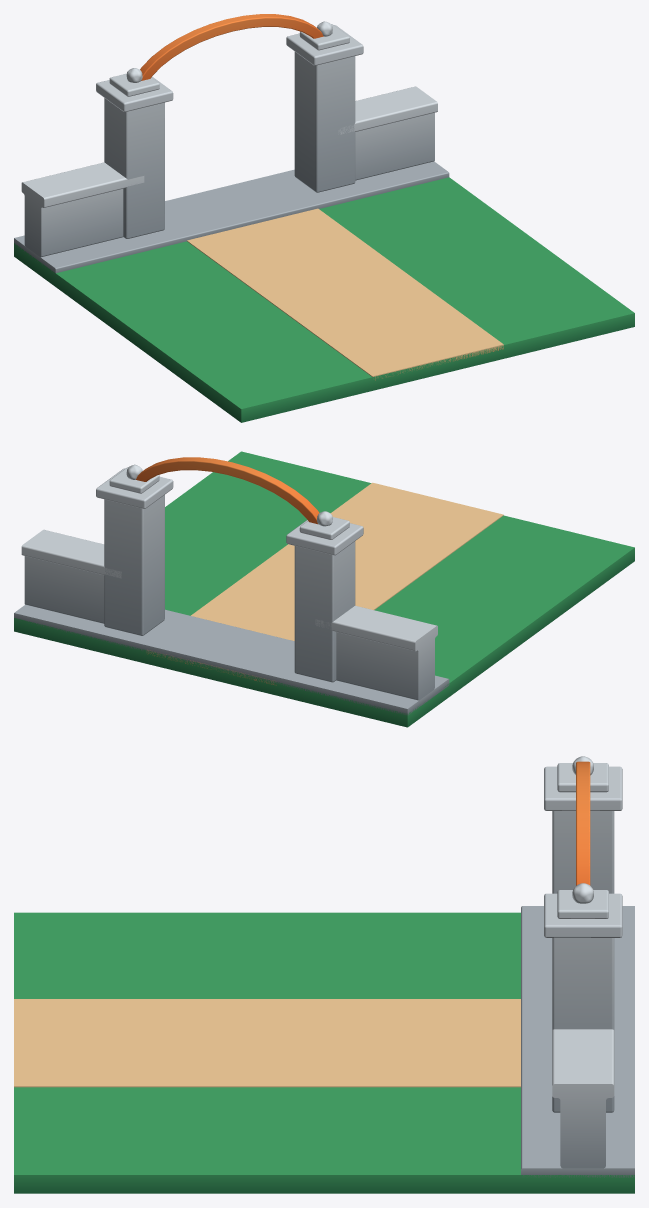
Rendered from portal.glb.
3 renders of one model, top to bottom at view 1: azimuth 30°, elevation 25°; view 2: azimuth 150°, elevation 25°; view 3: azimuth 270°, elevation 25°, orthographic. The views are drawn at different scales.
Visible parts, largest first — view 1: portal; view 2: portal; view 3: portal.
Boxes of the visible parts, bbox=[...] form: portal: bbox=[14, 14, 634, 422]; portal: bbox=[14, 451, 634, 727]; portal: bbox=[14, 756, 634, 1193].
Bounding box in the file's own units: 6 × 2.94 × 6.
1 material, 1 textured.
